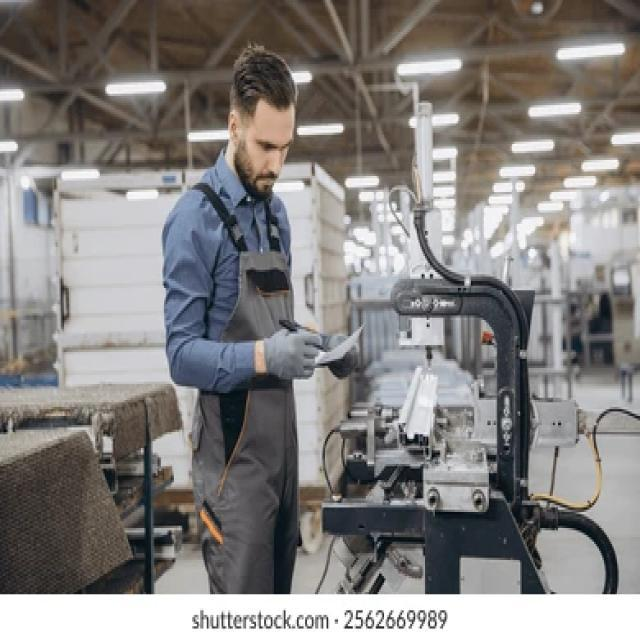gloved_hand: (262, 326, 324, 389), (325, 328, 364, 382)
